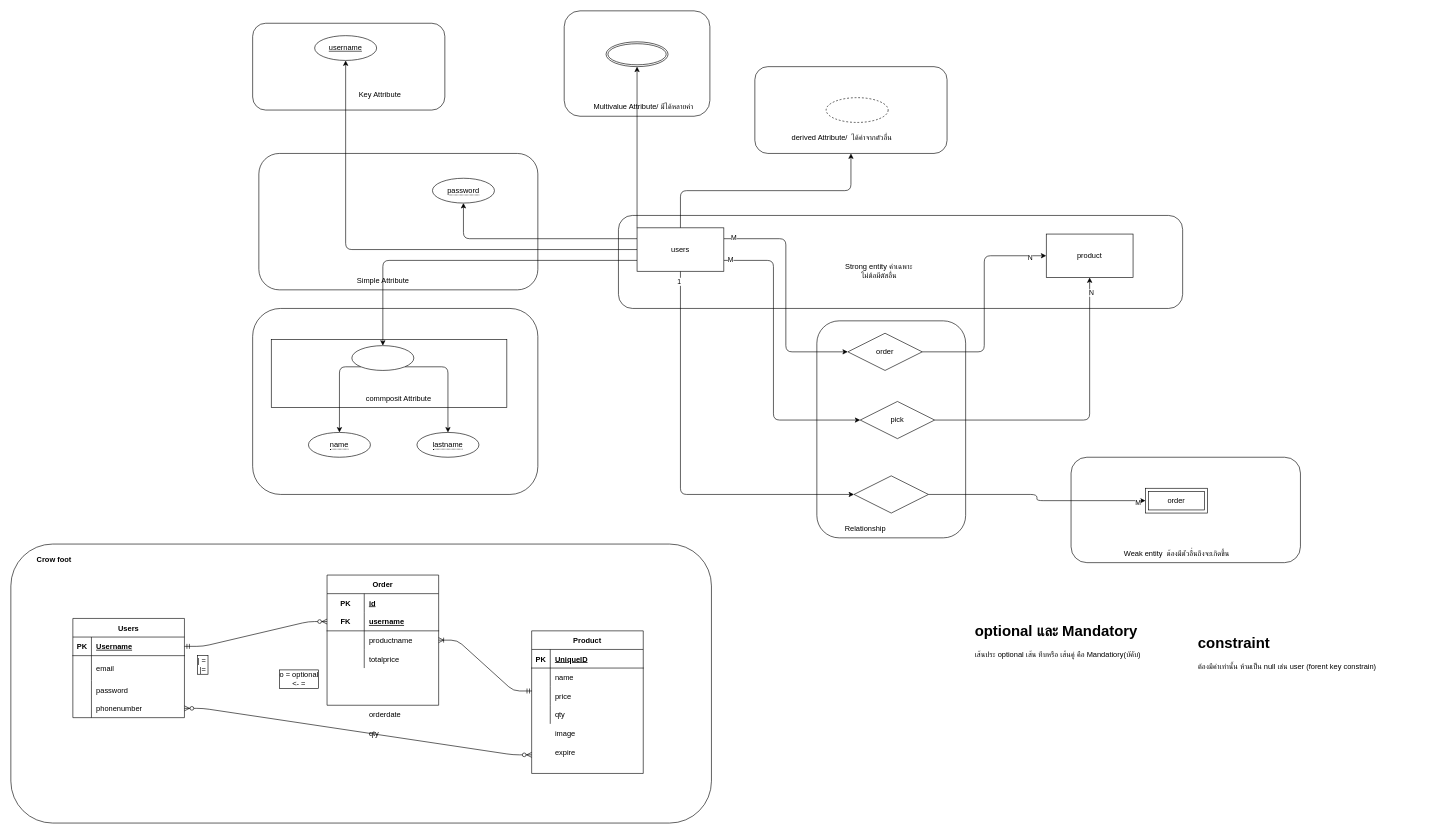
This 1442x834 diagram has some shape labels left out. The shapes that lost their labels are listed below. From the top down, each one's box as (x1, y1, x2, y2) in pixels, then its label:
(605, 41, 668, 67): adddress
(826, 97, 888, 122): age
(351, 345, 414, 370): fullname
(853, 475, 928, 513): place
